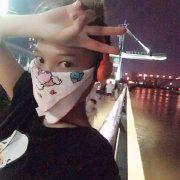OK: (29, 47, 98, 116)
